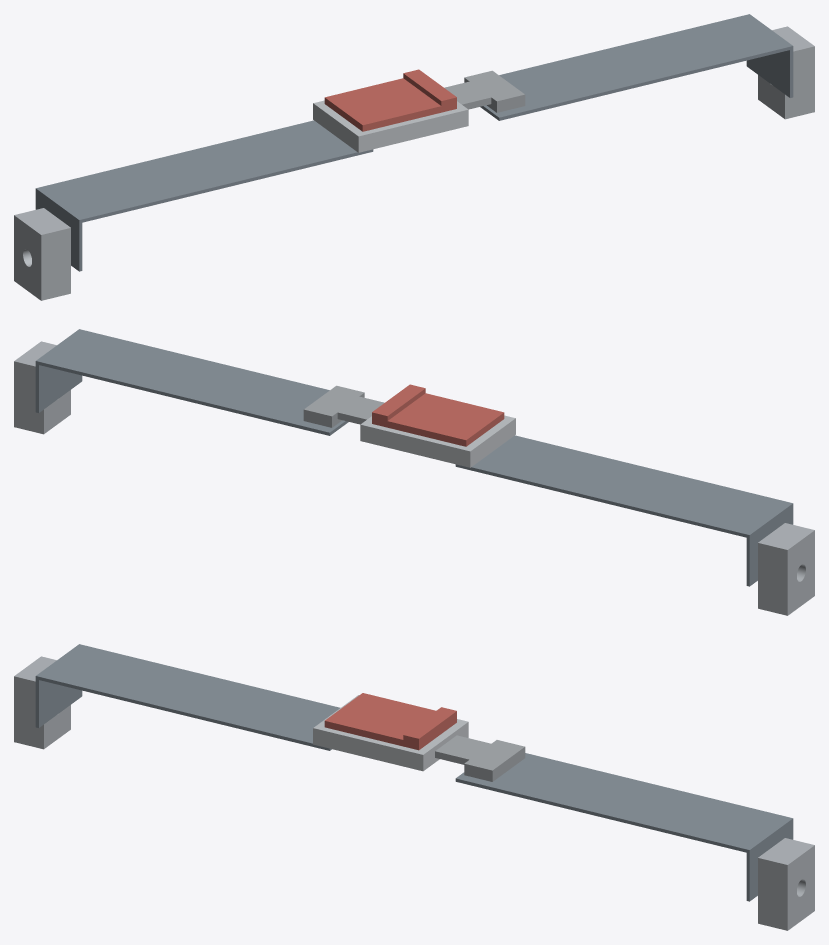
The model's file is esp2026_sa6_lap_belt.glb.
3 renders of one model, top to bottom at view 1: azimuth 30°, elevation 25°; view 2: azimuth 150°, elevation 25°; view 3: azimuth 330°, elevation 25°, orthographic.
Visible parts, largest first — view 1: belt webbing, buckle side, belt webbing, adjuster side, buckle lift lever, belt anchor, left, buckle body, belt anchor, right, belt tongue; view 2: belt webbing, buckle side, belt webbing, adjuster side, buckle lift lever, belt anchor, left, buckle body, belt anchor, right, belt tongue; view 3: belt webbing, buckle side, belt webbing, adjuster side, belt anchor, right, buckle lift lever, buckle body, belt anchor, left, belt tongue.
Boxes of the visible parts, left/top/right/bottom form: belt webbing, buckle side: left=35, top=120, right=373, bottom=271; belt webbing, adjuster side: left=480, top=14, right=793, bottom=120; buckle lift lever: left=324, top=69, right=456, bottom=131; belt anchor, left: left=14, top=208, right=70, bottom=300; buckle body: left=313, top=100, right=468, bottom=152; belt anchor, right: left=758, top=26, right=814, bottom=119; belt tongue: left=444, top=70, right=525, bottom=112; belt webbing, buckle side: left=455, top=435, right=793, bottom=586; belt webbing, adjuster side: left=35, top=329, right=348, bottom=435; buckle lift lever: left=372, top=384, right=504, bottom=446; belt anchor, left: left=758, top=523, right=814, bottom=615; buckle body: left=360, top=415, right=515, bottom=467; belt anchor, right: left=14, top=341, right=70, bottom=434; belt tongue: left=303, top=385, right=384, bottom=427; belt webbing, buckle side: left=35, top=644, right=340, bottom=750; belt webbing, adjuster side: left=455, top=753, right=793, bottom=901; belt anchor, right: left=758, top=838, right=814, bottom=930; buckle lift lever: left=324, top=693, right=456, bottom=750; buckle body: left=313, top=695, right=468, bottom=771; belt anchor, left: left=14, top=656, right=70, bottom=749; belt tongue: left=435, top=735, right=525, bottom=781.
Size of the model in its own units: 492 by 65.27 by 50.
